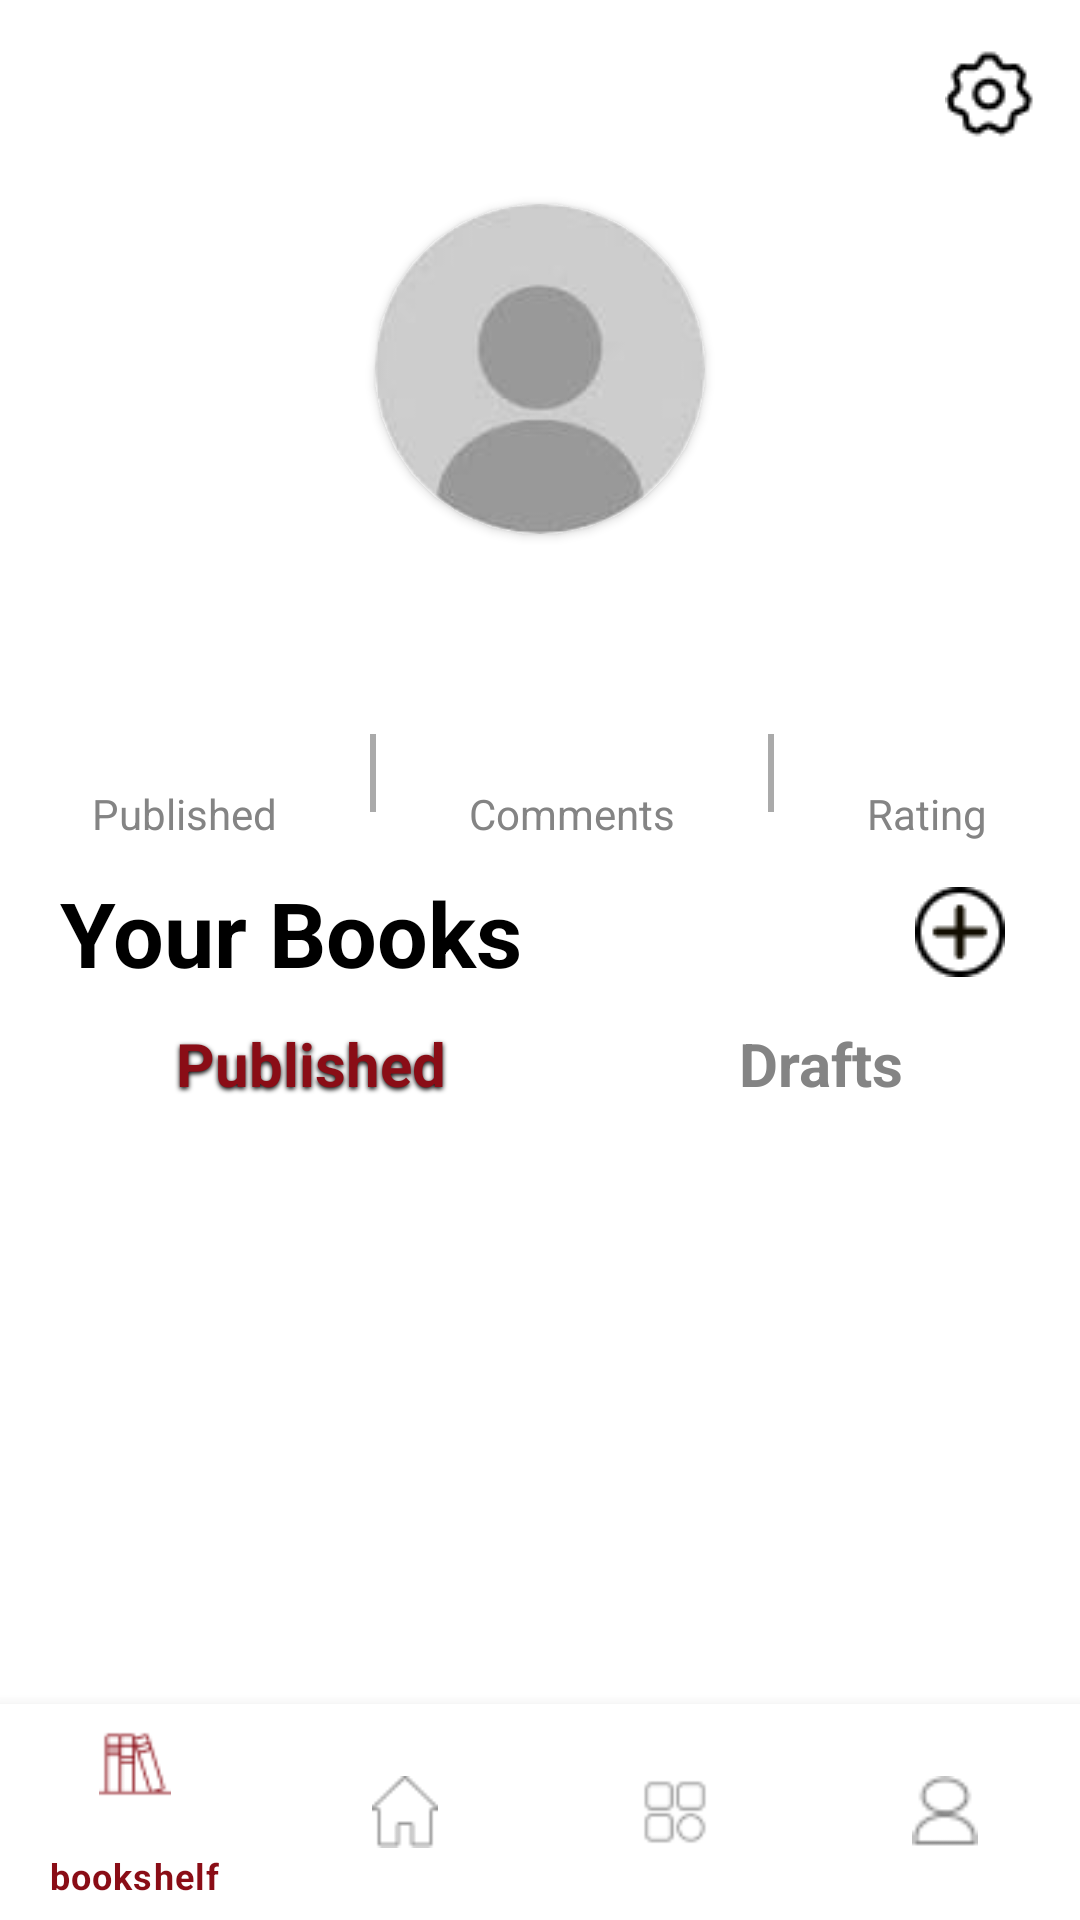

Where icons sit on this 1080px×1920px app screen, as region(x1, y1, x2, y2):
empty profile pic: region(375, 204, 705, 534)
plus in circle: region(915, 887, 1005, 977)
settings: region(945, 51, 1033, 137)
